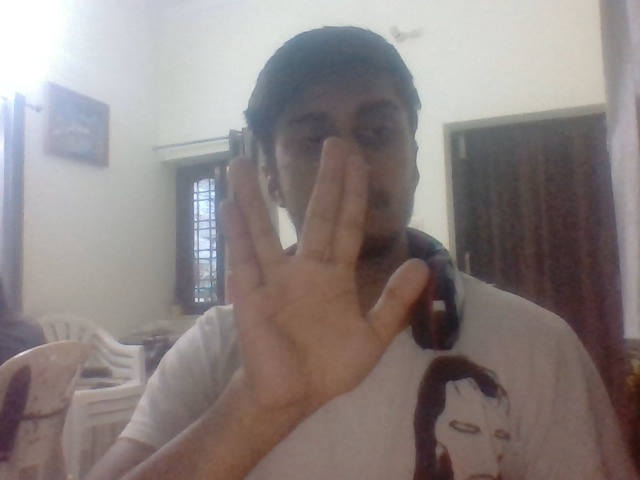LiveLong: (218, 135, 430, 401)
